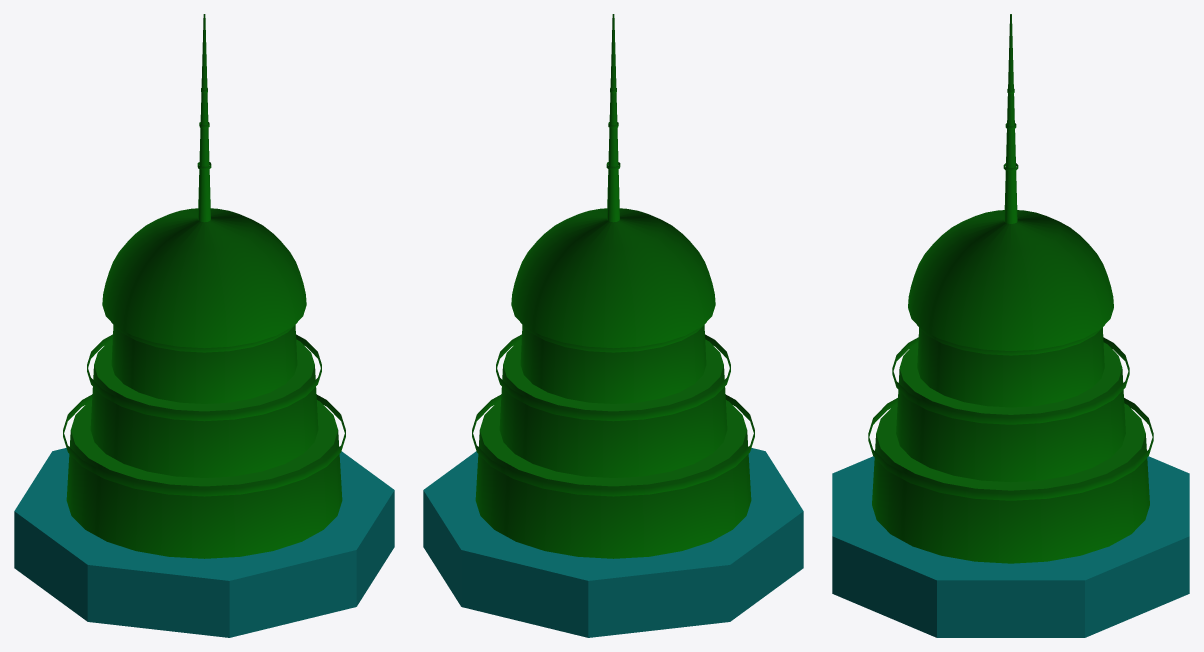
The model's file is bowl_dome.glb.
3 renders of one model, left to right at view 1: azimuth 30°, elevation 25°; view 2: azimuth 150°, elevation 25°; view 3: azimuth 270°, elevation 25°, orthographic.
Visible parts, largest first — view 1: bowl_dome; view 2: bowl_dome; view 3: bowl_dome.
Part boxes in pixels (bbox=[...]): bowl_dome: bbox=[14, 14, 394, 637]; bowl_dome: bbox=[423, 14, 803, 637]; bowl_dome: bbox=[832, 14, 1189, 637].
Size of what is drawn, in the model's own units: 11.83 by 20 by 11.83.
